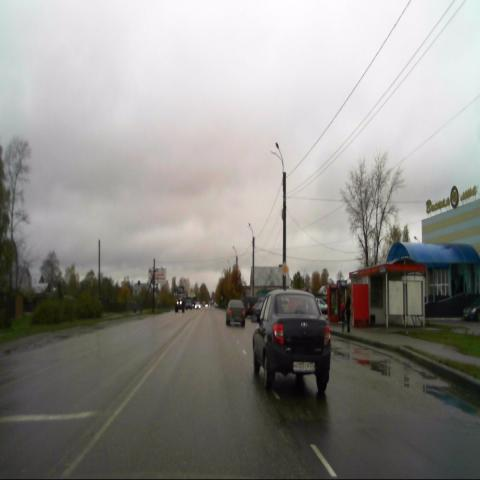2_1: (280, 261, 290, 276)
